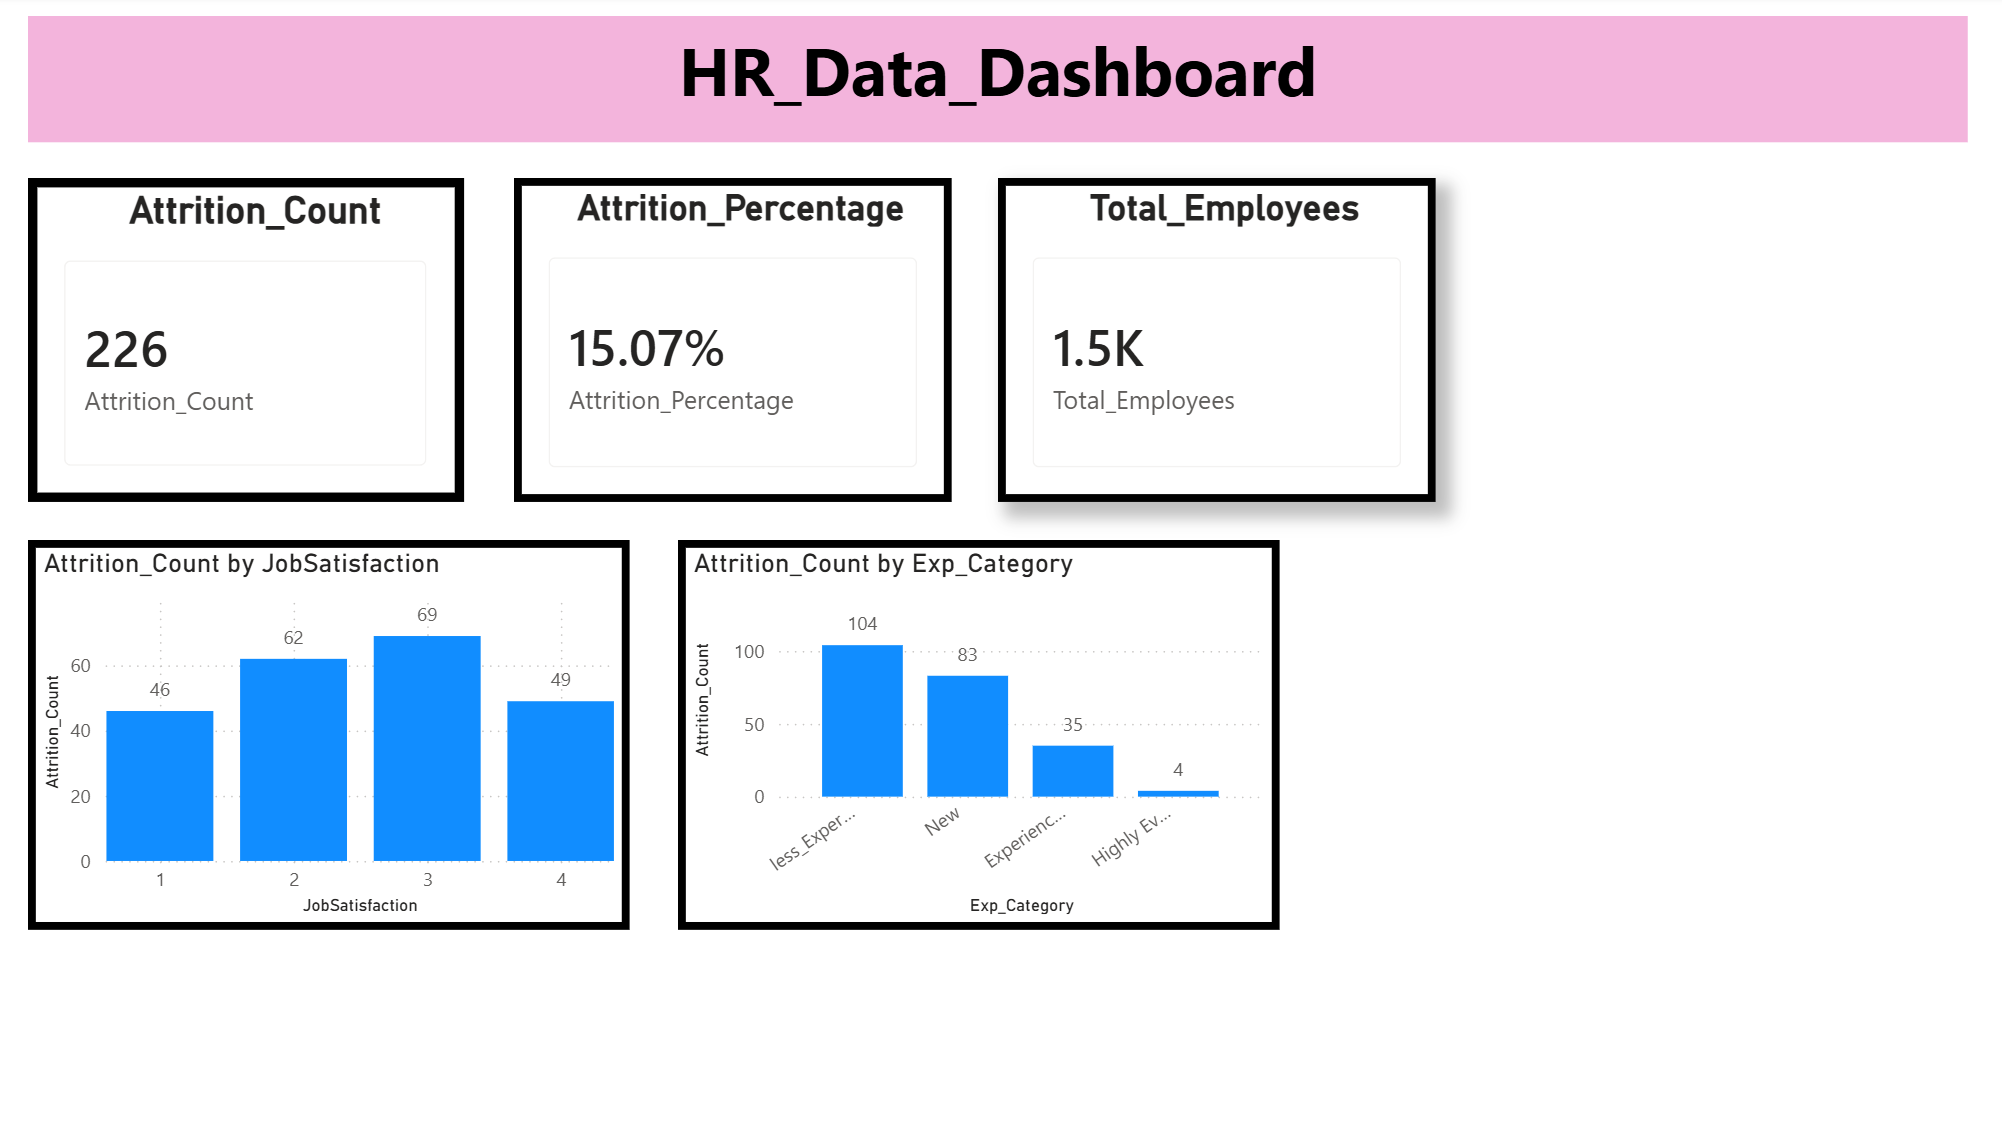

Layout of this report page (visuals, bound fields, positions):
{"tool":"powerbi","page":{"name":"Page 2","canvas":[1280,720],"ordinal":0},"visuals":[{"type":"cardVisual","title":"Total_Employees","fields":{"Data":["Fact_Attrition.Total_Employees"]},"box":[636.2,117.3,279.2,206.5],"z":0},{"type":"cardVisual","title":"Attrition_Count ","fields":{"Data":["Fact_Attrition.Attrition_Count"]},"box":[17.8,117.3,277.9,206.5],"z":1000},{"type":"cardVisual","title":"Attrition_Percentage ","fields":{"Data":["Fact_Attrition.Attrition_Percentage"]},"box":[327.6,117.3,279.2,206.5],"z":2000},{"type":"columnChart","fields":{"Y":["Fact_Attrition.Attrition_Count"],"Category":["Fact_Attrition.JobSatisfaction"]},"box":[17.8,348,383.7,248.6],"z":3000},{"type":"columnChart","fields":{"Y":["Fact_Attrition.Attrition_Count"],"Category":["Fact_Attrition.Exp_Category "]},"box":[432.2,348,383.7,248.6],"z":4000},{"type":"textbox","box":[17.8,14,1236.7,49.7],"z":4001},{"type":"textbox","box":[17.8,14,1236.7,80.3],"z":4002}]}

Visuals, with their boxes in screenshot pixels (x1, y1, x2, y2), scaled from the page's 1280x720 canvas onto the 2002x1122 screenshot:
"Total_Employees" cardVisual: 995:183:1432:505
"Attrition_Count " cardVisual: 28:183:462:505
"Attrition_Percentage " cardVisual: 512:183:949:505
columnChart - Fact_Attrition.Attrition_Count x Fact_Attrition.JobSatisfaction: 28:542:628:930
columnChart - Fact_Attrition.Attrition_Count x Fact_Attrition.Exp_Category : 676:542:1276:930
textbox: 28:22:1962:99
textbox: 28:22:1962:147
